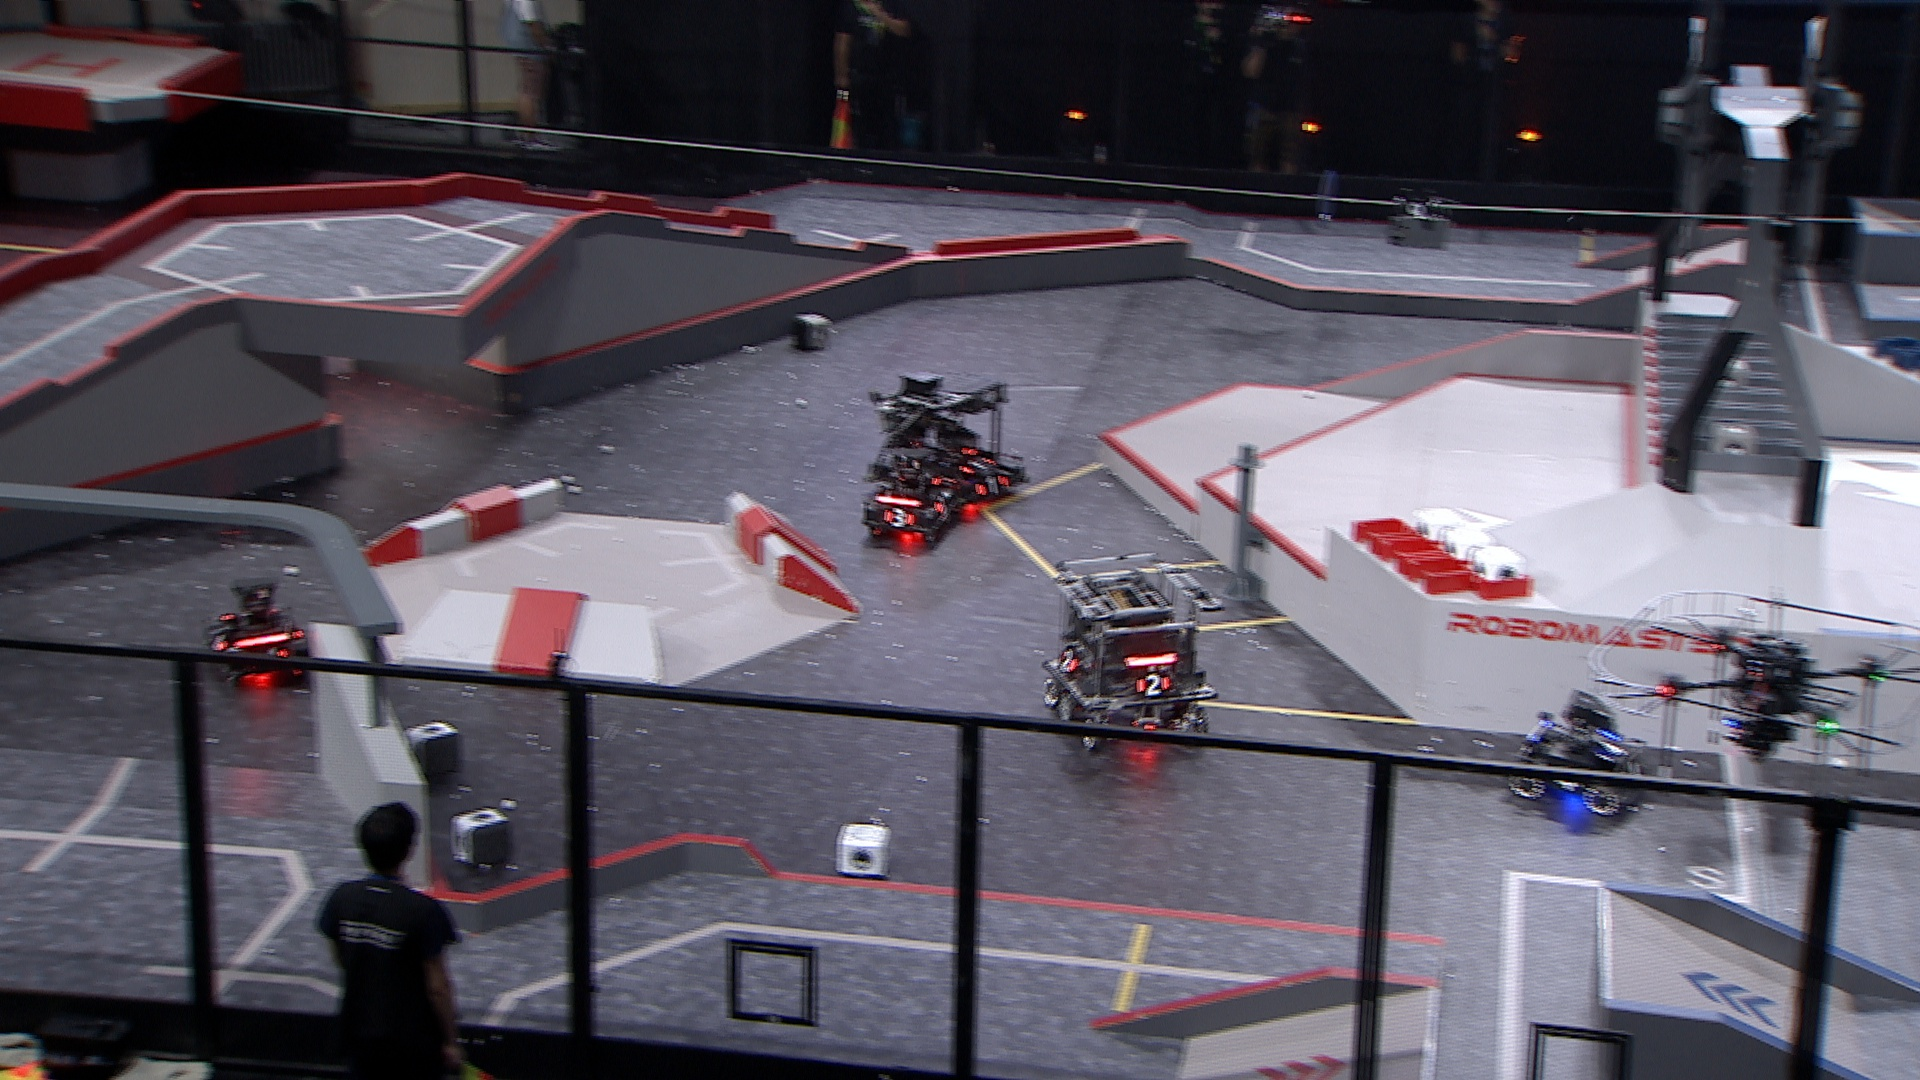armor: (880, 508, 920, 531), (1134, 673, 1171, 698), (1058, 647, 1083, 678), (1600, 737, 1631, 760), (975, 475, 1007, 496), (957, 456, 994, 469), (1555, 777, 1585, 793), (934, 496, 953, 520), (208, 632, 229, 651)
car: (1040, 553, 1221, 756), (869, 367, 1029, 505), (1509, 688, 1655, 815), (200, 574, 314, 684), (860, 447, 965, 547)
